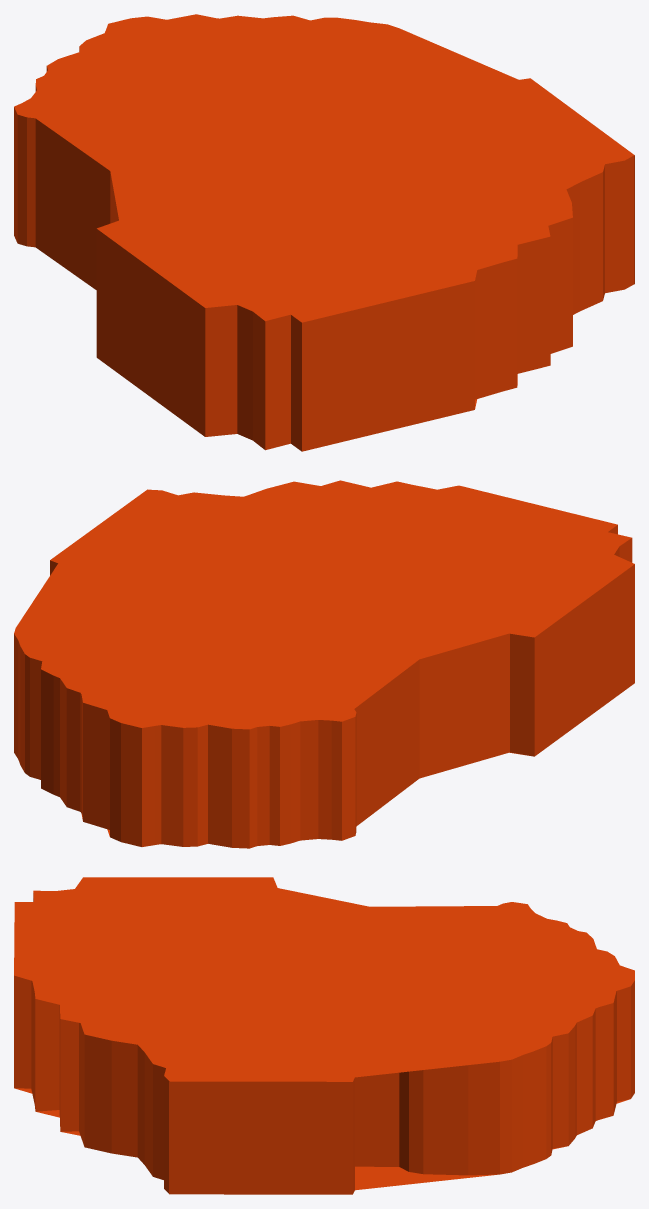
File: sikkim.fbx
3 renders of one model, top to bottom at view 1: azimuth 30°, elevation 25°; view 2: azimuth 150°, elevation 25°; view 3: azimuth 270°, elevation 25°, orthographic. The views are drawn at different scales.
Visible parts, largest first — view 1: Sikkim; view 2: Sikkim; view 3: Sikkim.
Part boxes in pixels (x1,y1,x2,y2): Sikkim: (14,14,634,451); Sikkim: (14,480,634,848); Sikkim: (14,877,634,1194).
Size of the model in its own units: 13.32 by 3.43 by 17.08.
